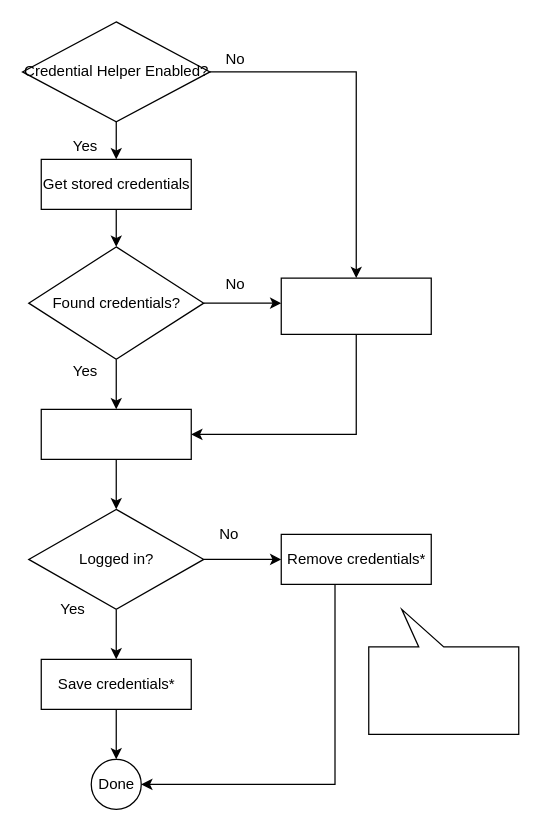
The diagram is 540 pixels wide and 831 high, and some of its shapes have lost their labels. Each missing label, with the centre of its shape:
"* only when credential helper is enabled" goes at point 443,671.
"Present dialog to enter credentials" goes at point 355,305.
"Use credentials" goes at point 115,433.
